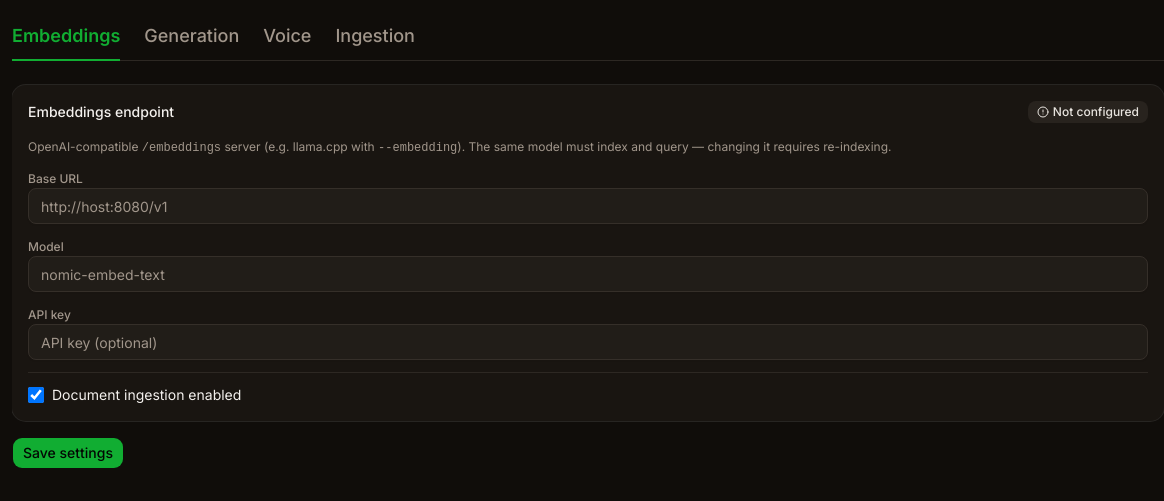
it: AiSettingsForm — transcription (voice) endpoint (ORR-737) › keeps the transcription fields on the Voice tab (hidden until opened)
The image size is (1164, 501).
Check: the field with placeholder "http://host:9000/v1" is not shown
Click the tab "Voice".
click(287, 36)  # box [263,12,311,61]
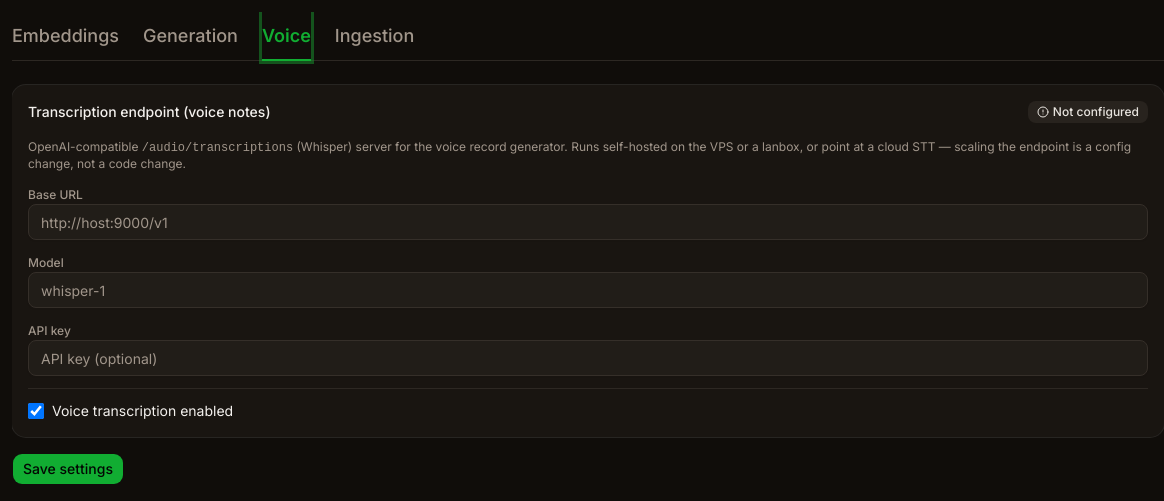
Check: the text "Transcription endpoint (voice notes)" is shown, box [28,102,270,122]
Check: the field with placeholder "http://host:9000/v1" is shown, box [28,204,1148,240]
Check: the field with placeholder "whisper-1" is shown, box [28,272,1148,308]
